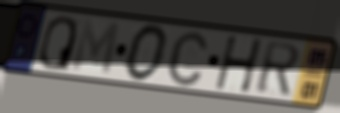C: (165, 28, 211, 89)
H: (214, 35, 265, 95)
M: (69, 17, 123, 78)
O: (123, 23, 171, 84)
Q: (37, 15, 79, 73)
R: (253, 40, 302, 98)
